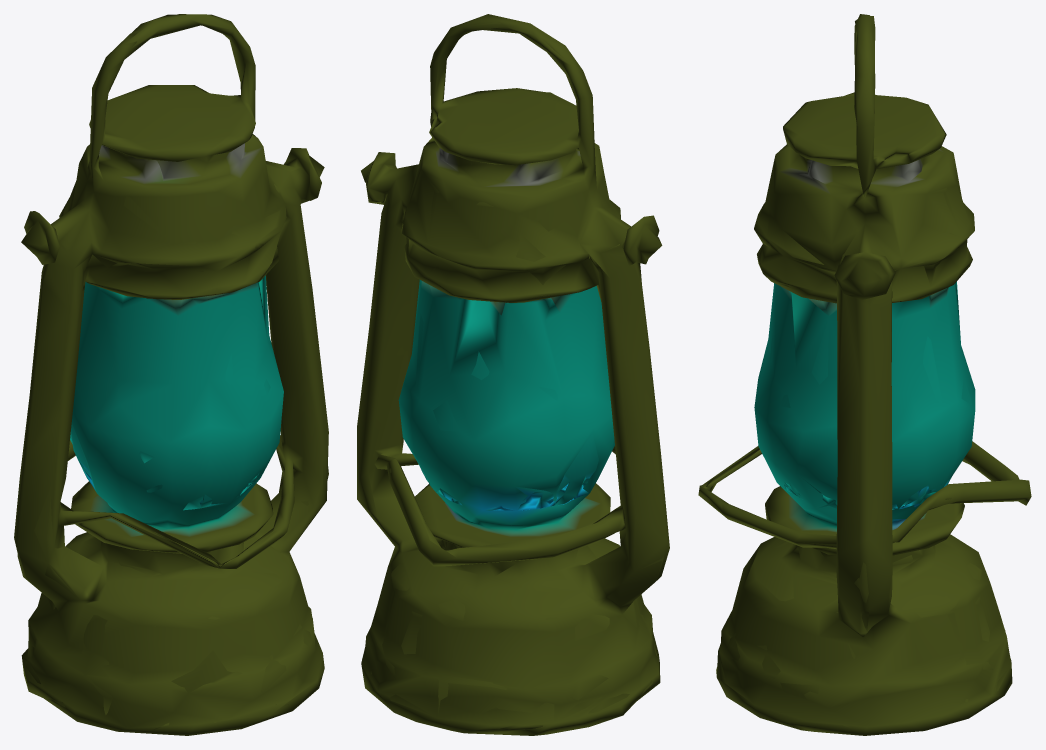
The model's file is gen3d-underwater-lantern-lod0.glb.
The picture shows the model from 3 angles, left to right: view 1: azimuth 30°, elevation 25°; view 2: azimuth 150°, elevation 25°; view 3: azimuth 270°, elevation 25°; orthographic projection.
Parts seen in each view (by area): view 1: part_0; view 2: part_0; view 3: part_0.
Part boxes in pixels (<box>): part_0: <box>14,14,328,735</box>; part_0: <box>357,14,669,735</box>; part_0: <box>698,14,1031,735</box>.
Bounding box in the file's own units: 0.4949 × 0.9982 × 0.4636.
